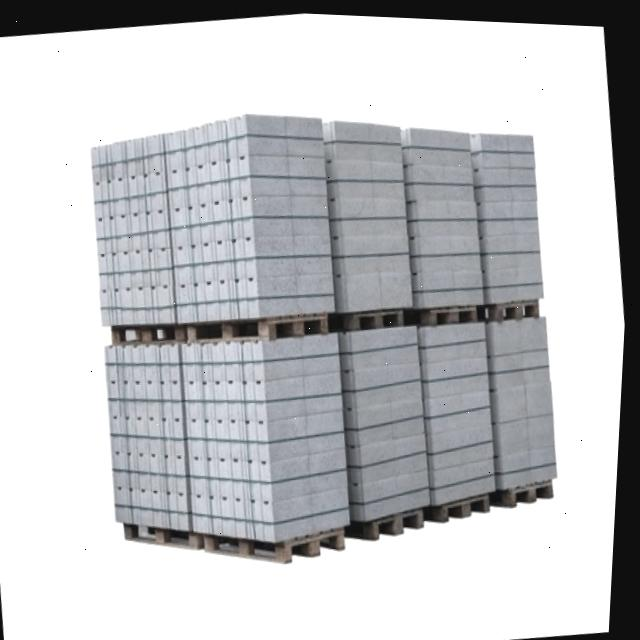bricks: (105, 316, 557, 540), (91, 114, 543, 328)
